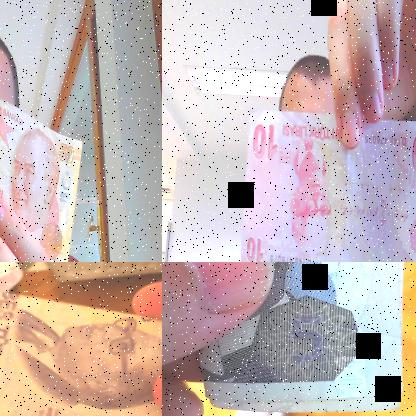5 TL: (0, 68, 84, 261)
